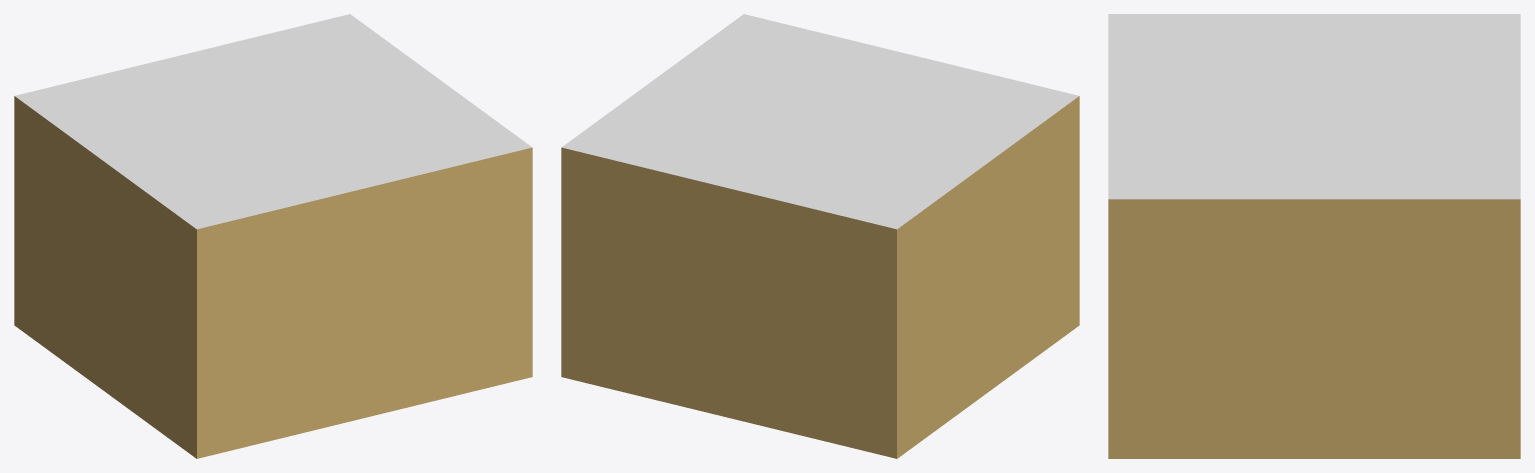
File: Bedroom_5.glb
3 views of the same model, side by side, from view 1: azimuth 30°, elevation 25°; view 2: azimuth 150°, elevation 25°; view 3: azimuth 270°, elevation 25° (orthographic). The views are drawn at different scales.
Visible parts, largest first — view 1: Room_Bedroom5; view 2: Room_Bedroom5; view 3: Room_Bedroom5.
Part boxes in pixels (x1=…): Room_Bedroom5: x1=14, y1=14, x2=532, y2=458; Room_Bedroom5: x1=561, y1=14, x2=1079, y2=458; Room_Bedroom5: x1=1108, y1=14, x2=1520, y2=458.
Size of the model in its own units: 3.73 by 2.44 by 3.51.
